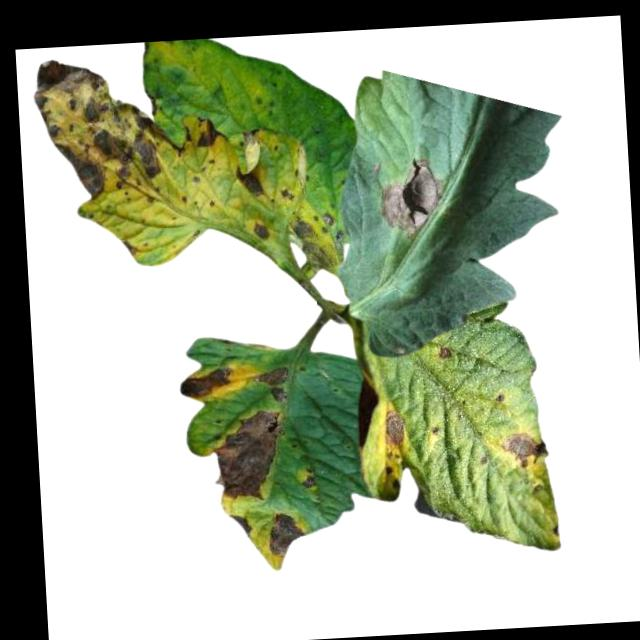Early_blight: (31, 48, 197, 203), (211, 407, 286, 503), (374, 152, 447, 240), (288, 208, 336, 271), (174, 361, 234, 400), (496, 429, 549, 469), (268, 506, 307, 560), (257, 366, 290, 406), (379, 405, 407, 452), (232, 162, 264, 203), (195, 115, 226, 153), (225, 512, 253, 538), (239, 124, 261, 148), (296, 465, 317, 489), (381, 465, 401, 490), (251, 217, 271, 241), (277, 183, 295, 201), (435, 343, 452, 361)
